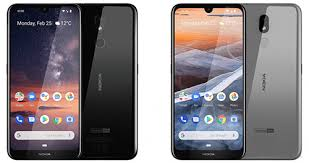nokia: (6, 1, 84, 159), (171, 1, 249, 159)
